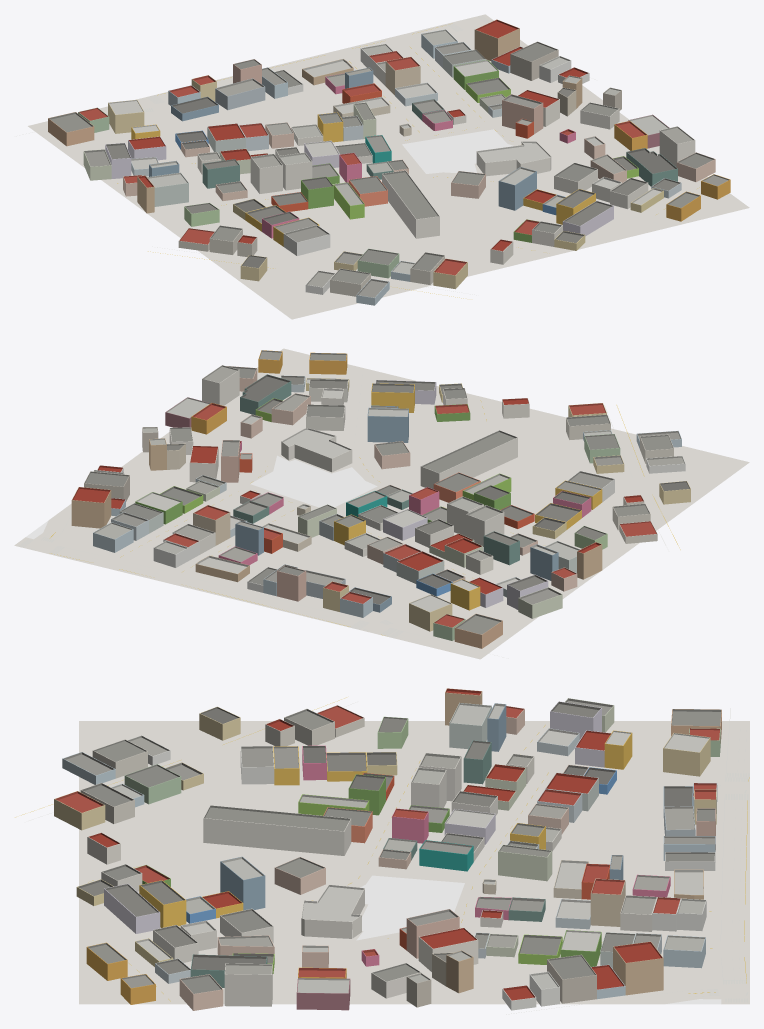
3 renders of one model, top to bottom at view 1: azimuth 30°, elevation 25°; view 2: azimuth 150°, elevation 25°; view 3: azimuth 270°, elevation 25°, orthographic. The views are drawn at different scales.
Parts seen in each view (by area): view 1: ground, walls, roofs, grass, markings; view 2: ground, walls, roofs, grass, markings; view 3: ground, walls, roofs, grass, markings.
Boxes of the visible parts, box(x1,y1,x2,y2) form: ground: box(28, 14, 749, 319); walls: box(48, 28, 730, 305); roofs: box(48, 19, 730, 297); grass: box(402, 129, 513, 173); markings: box(16, 15, 699, 298); ground: box(14, 348, 749, 659); walls: box(71, 352, 690, 648); roofs: box(72, 350, 690, 634); grass: box(26, 455, 377, 539); markings: box(19, 375, 680, 658); ground: box(79, 721, 749, 1004); walls: box(54, 692, 721, 1010); roofs: box(54, 688, 721, 1000); grass: box(356, 875, 721, 1004); markings: box(15, 697, 749, 1014).
Size of what is drawn, in the model's own units: 280 by 13.39 by 274.
